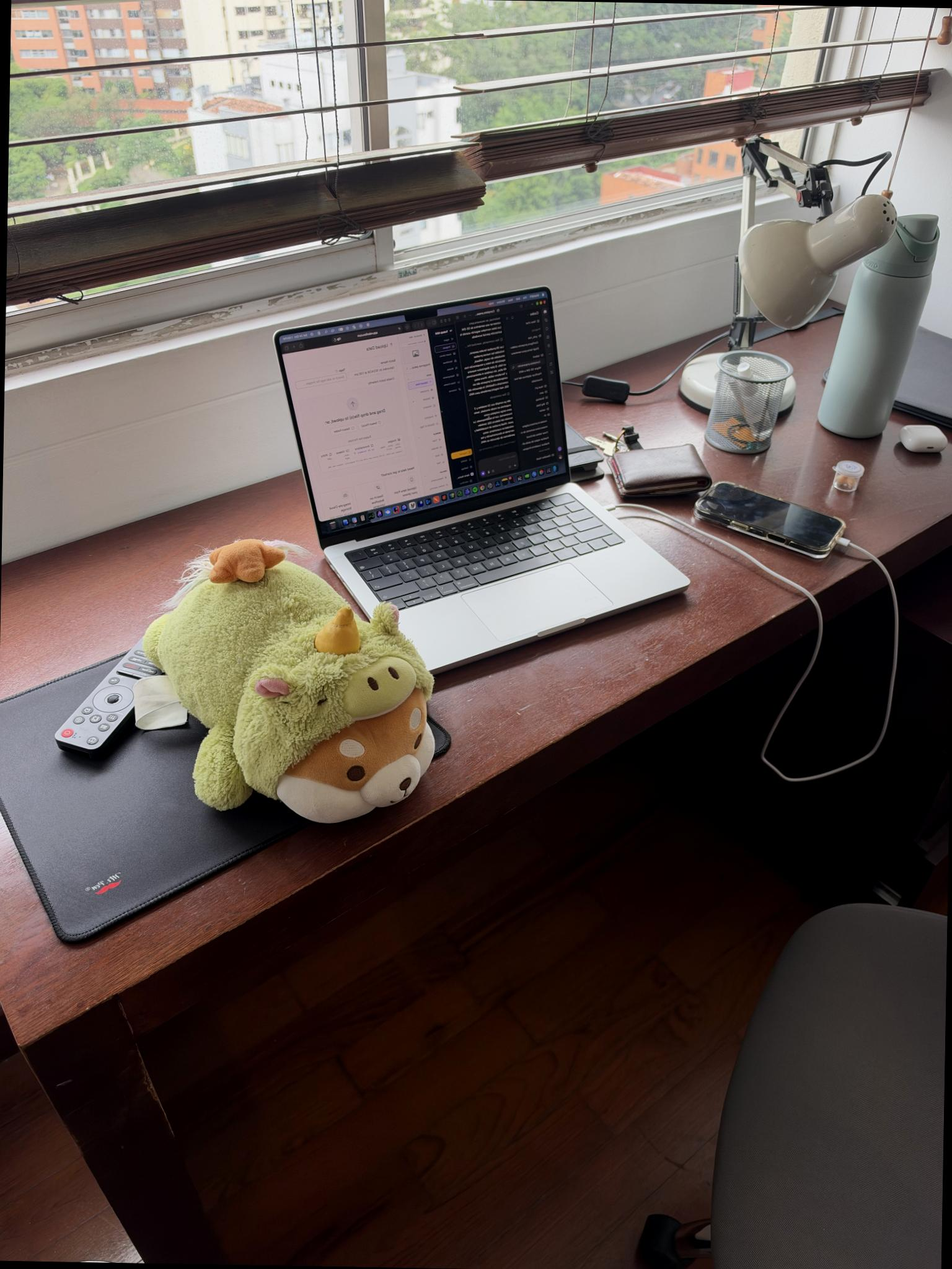peluche_martin: (137, 536, 440, 827)
